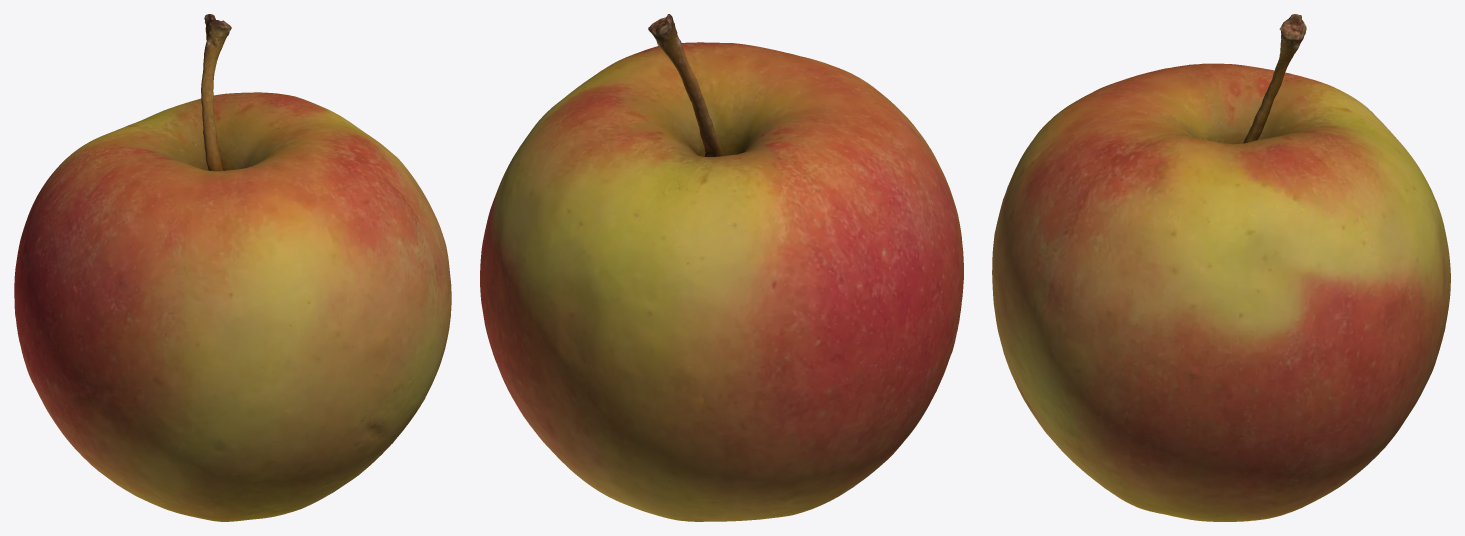
The model's file is apple-opt.glb.
3 views of the same model, side by side, from view 1: azimuth 30°, elevation 25°; view 2: azimuth 150°, elevation 25°; view 3: azimuth 270°, elevation 25° (orthographic). The views are drawn at different scales.
Parts seen in each view (by area): view 1: apple_apple_u1_v1_0; view 2: apple_apple_u1_v1_0; view 3: apple_apple_u1_v1_0.
Boxes of the visible parts, box(x1,y1,x2,y2) form: apple_apple_u1_v1_0: box(14, 14, 451, 521); apple_apple_u1_v1_0: box(480, 14, 963, 521); apple_apple_u1_v1_0: box(992, 14, 1450, 521).
Bounding box in the file's own units: 0.4959 × 0.5708 × 0.4921.
Materials: 1 (1 with a texture image).
